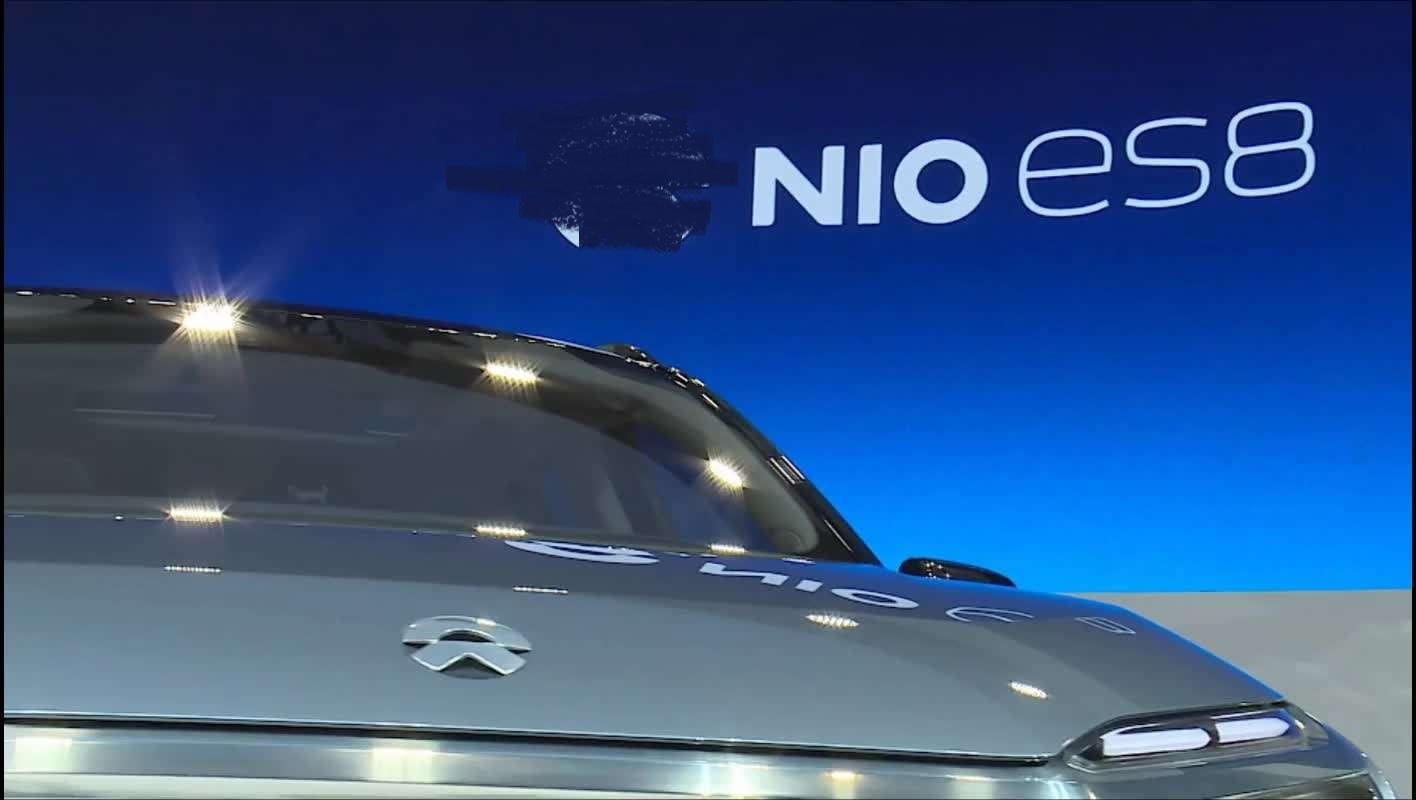NIO: (401, 615, 532, 675)
